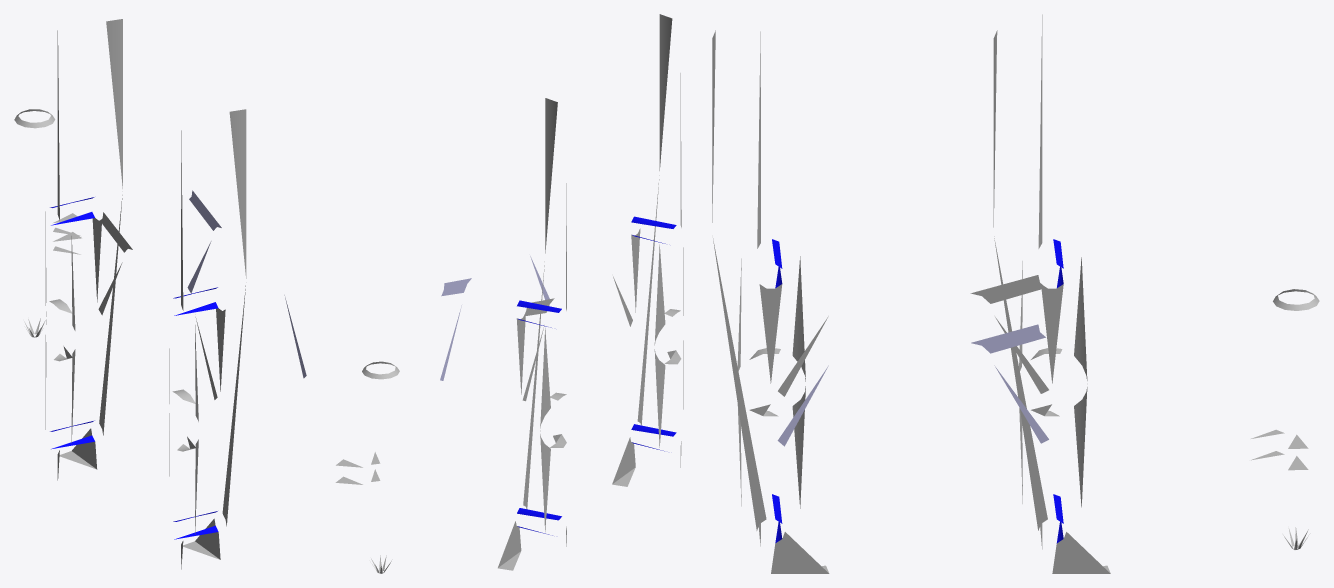
3 views of the same model, side by side, from view 1: azimuth 30°, elevation 25°; view 2: azimuth 150°, elevation 25°; view 3: azimuth 270°, elevation 25° (orthographic). The views are drawn at different scales.
Parts seen in each view (by area): view 1: F19721000063102000113_001_zb_ub_stiftzieher_13_ba (×3); view 2: F19721000063102000113_001_zb_ub_stiftzieher_13_ba (×3); view 3: F19721000063102000113_001_zb_ub_stiftzieher_13_ba (×3).
Boxes of the visible parts, bbox=[...] form: F19721000063102000113_001_zb_ub_stiftzieher_13_ba (×3): bbox=[14, 19, 306, 569]; F19721000063102000113_001_zb_ub_stiftzieher_13_ba (×3): bbox=[335, 14, 683, 573]; F19721000063102000113_001_zb_ub_stiftzieher_13_ba (×3): bbox=[712, 14, 1319, 573].
Size of the model in its own units: 37.5 by 129 by 126.
